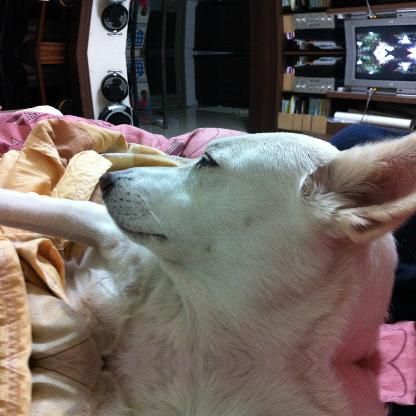Dog: (0, 129, 415, 363), (0, 362, 415, 415)
